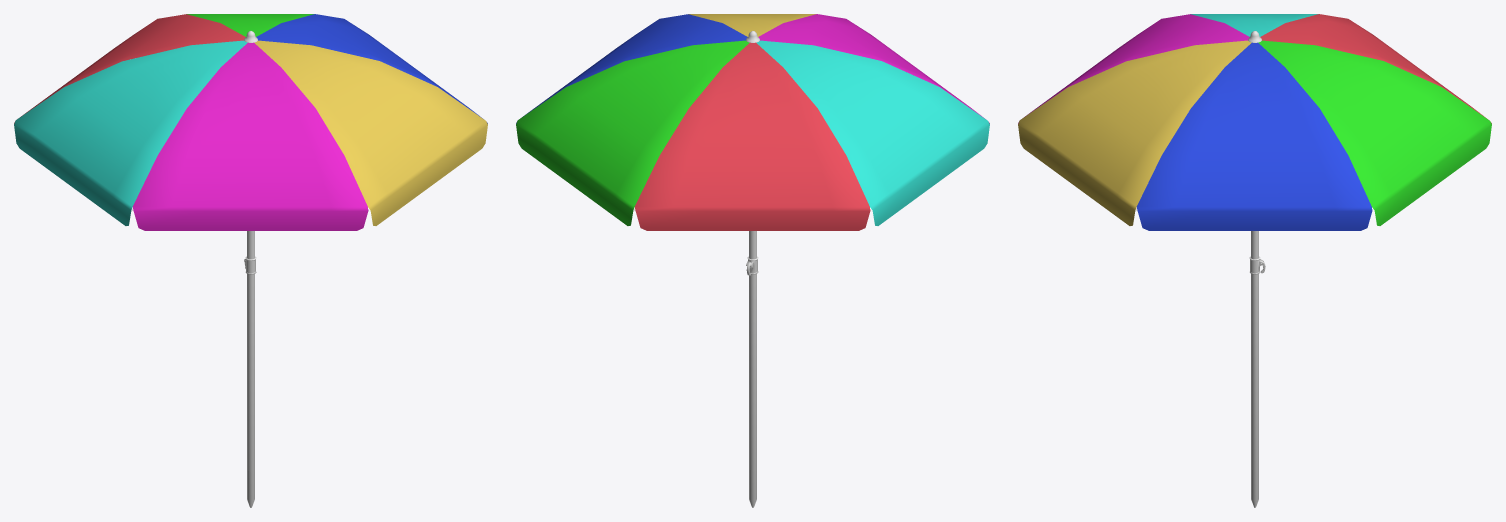
The model's file is du-bien.glb.
3 renders of one model, left to right at view 1: azimuth 30°, elevation 25°; view 2: azimuth 150°, elevation 25°; view 3: azimuth 270°, elevation 25°, orthographic.
Visible parts, largest first — view 1: Sphere.002, Cylinder, Cylinder.001; view 2: Sphere.002, Cylinder, Cylinder.001; view 3: Sphere.002, Cylinder, Cylinder.001.
Boxes of the visible parts, left/top/right/bottom form: Sphere.002: left=14, top=14, right=487, bottom=230; Cylinder: left=247, top=274, right=254, bottom=507; Cylinder.001: left=244, top=31, right=257, bottom=274; Sphere.002: left=516, top=14, right=989, bottom=230; Cylinder: left=749, top=274, right=756, bottom=507; Cylinder.001: left=746, top=31, right=759, bottom=275; Sphere.002: left=1018, top=14, right=1491, bottom=230; Cylinder: left=1251, top=274, right=1258, bottom=507; Cylinder.001: left=1248, top=31, right=1265, bottom=274.
Size of the model in its own units: 0.7828 by 1 by 0.901.
